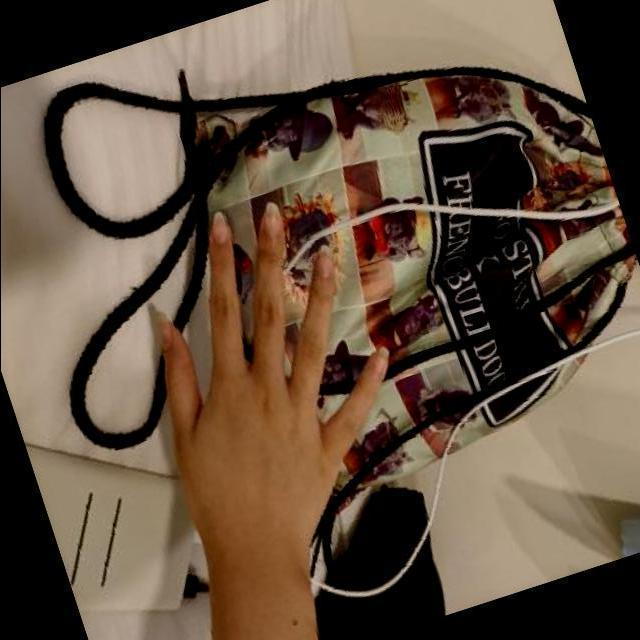bare_hand: (99, 204, 412, 558)
